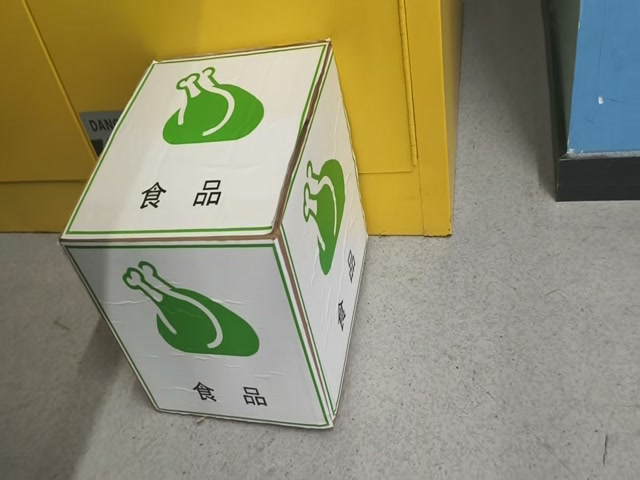Cube_food: (61, 41, 335, 248)
